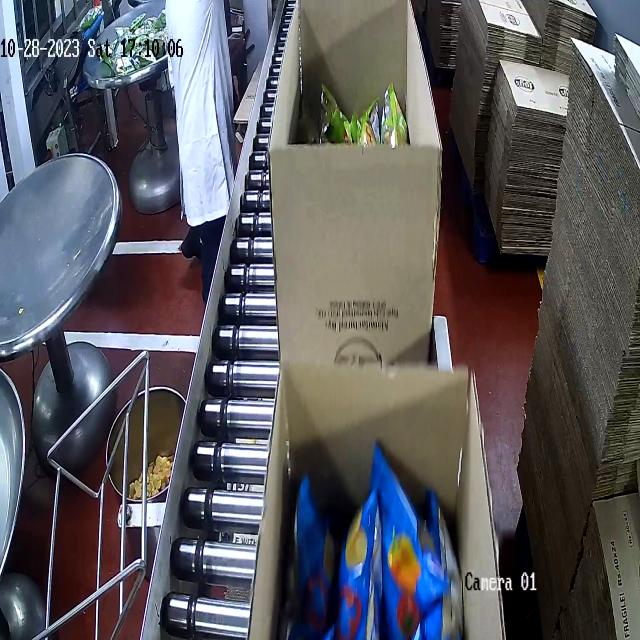PAPRIKA: (287, 449, 448, 640)
